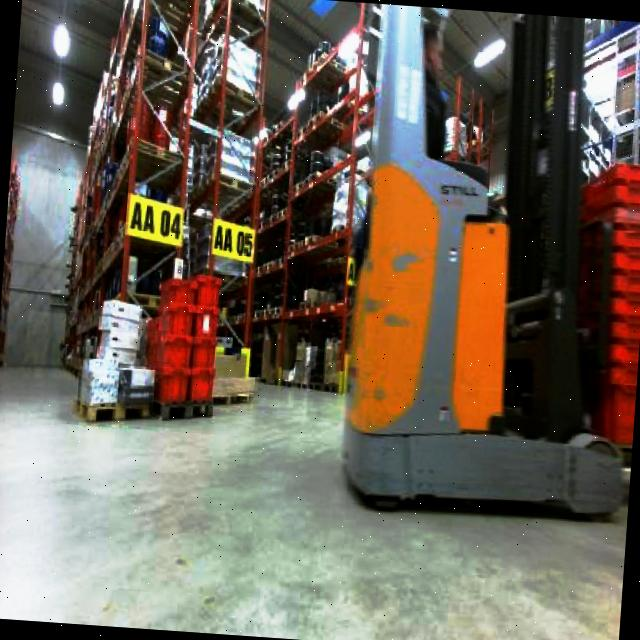ground: (0, 358, 635, 640)
pallet: (50, 0, 640, 519), (56, 0, 382, 429), (229, 0, 502, 402), (59, 0, 202, 381), (233, 30, 381, 389), (560, 156, 640, 464), (145, 268, 226, 422), (0, 137, 23, 378)
